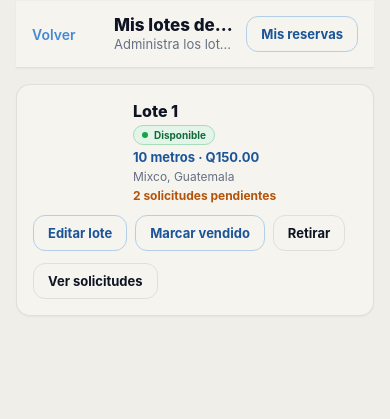
Test: MyMaterialListingsScreen — solicitudes del vendedor › un error al cargar solicitudes se muestra como error y no como lista vacia
This screenshot has width=390, height=419.
Expected: the text "Lote 1" is shown, 133,101 -> 178,121
Click the text "Ver solicitudes" at (95, 281), box 48,273 -> 143,289
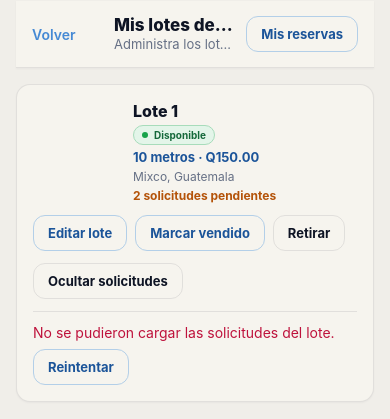
Expected: the text "No se pudieron cargar las solicitudes del lote." is shown, 33,324 -> 357,341
